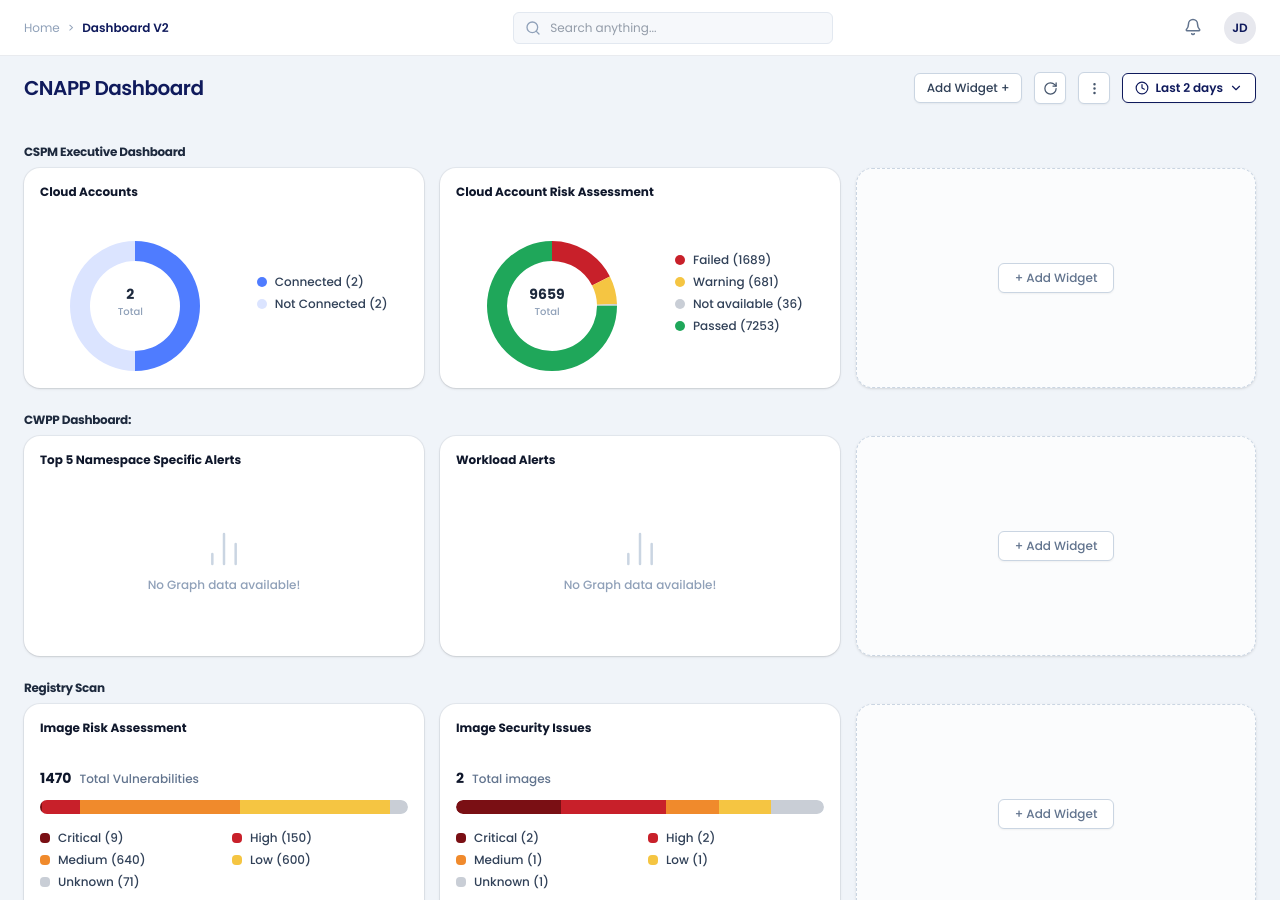
Test: Dashboard Search (Phase 8b) › clearing the query restores all sections, cards, and placeholders
In the search field named "Search dashboard widgets": (673, 28) [513, 12, 833, 44], type "Alerts"
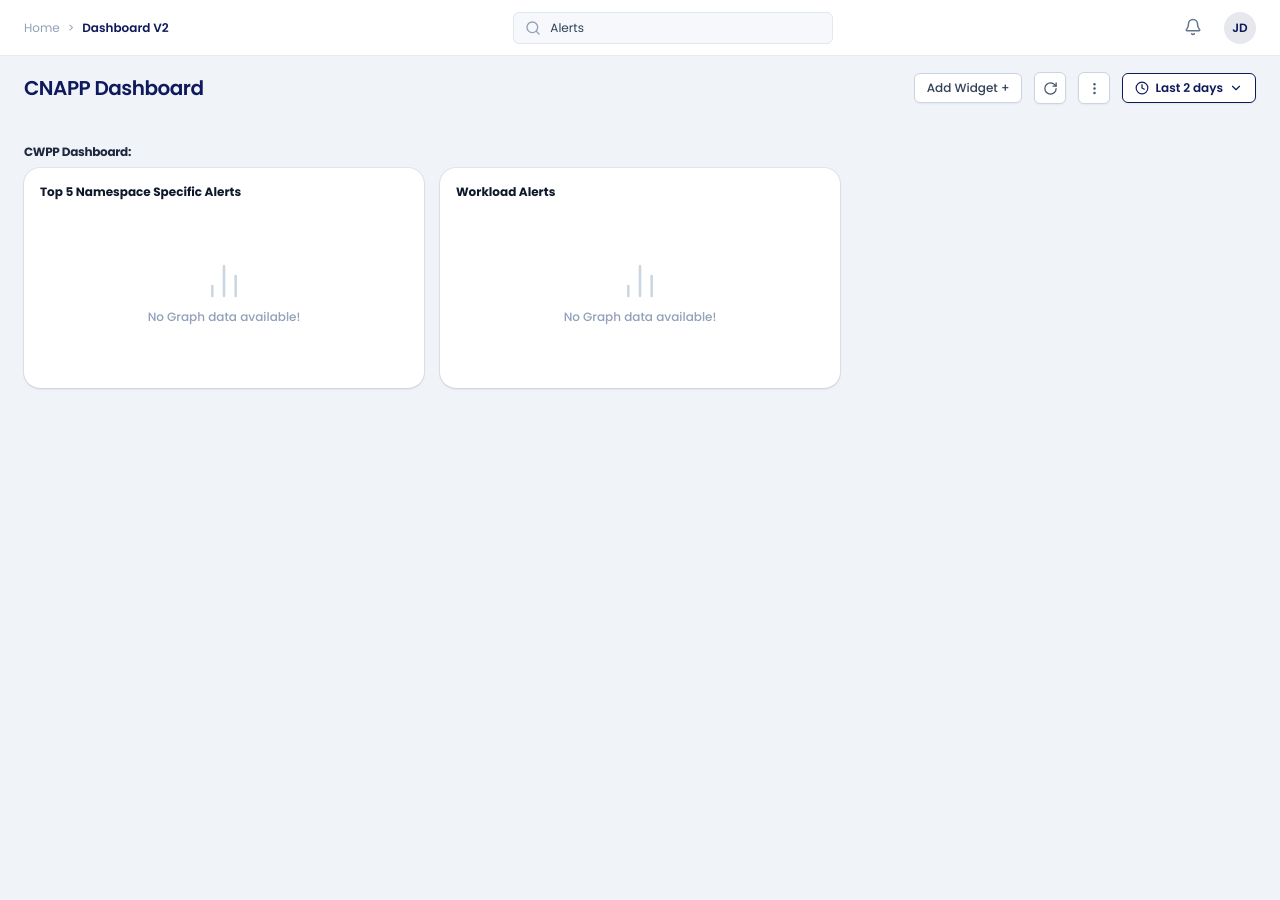
Check: the heading "CSPM Executive Dashboard" is gone
Clear the search field named "Search dashboard widgets": (673, 28) [513, 12, 833, 44]
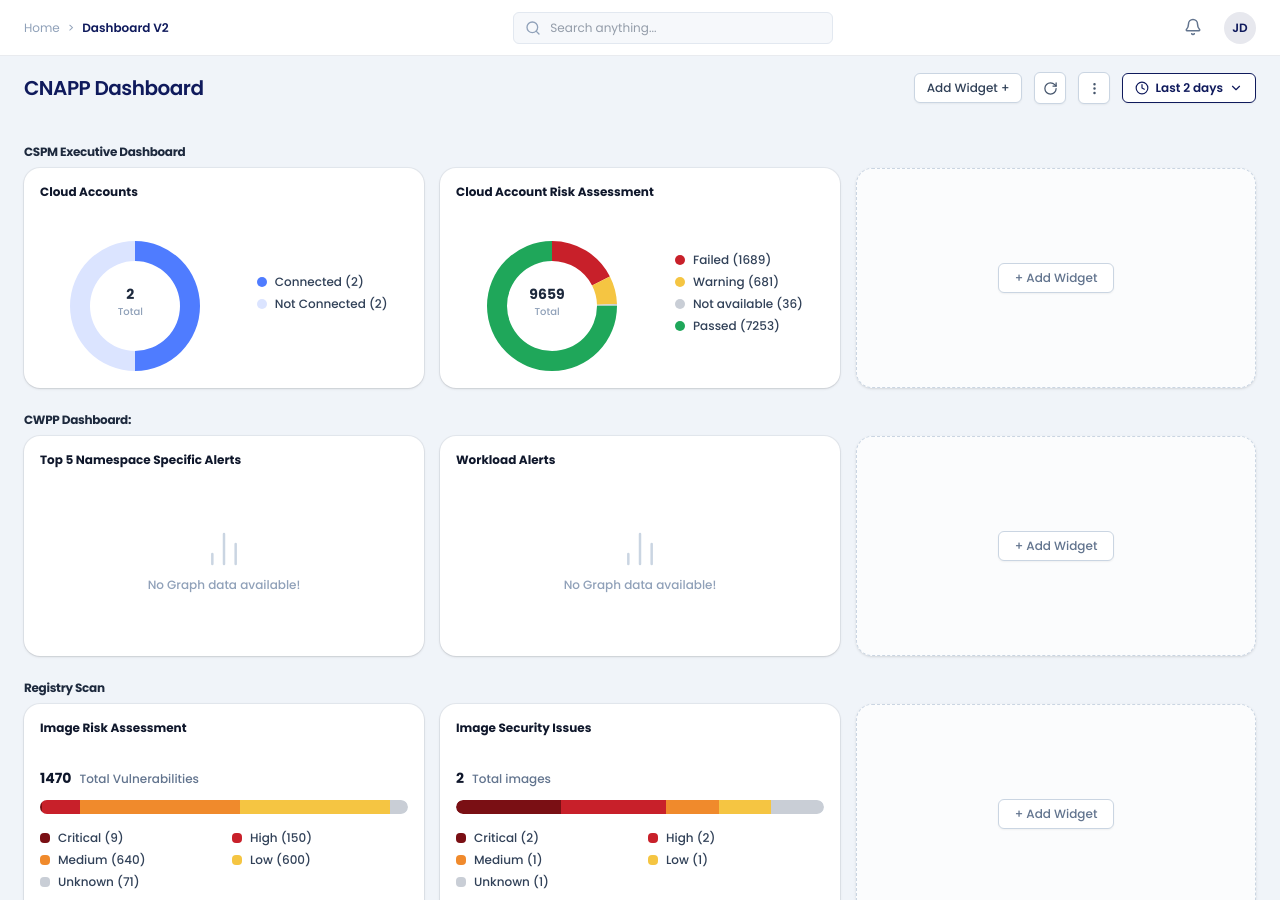
Check: the heading "CSPM Executive Dashboard" is shown, box [24, 143, 185, 160]
Check: the heading "Registry Scan" is shown, box [24, 679, 105, 696]
Check: the number of buttons "+ Add Widget" is 3, box [998, 263, 1114, 293]; [998, 531, 1114, 561]; [998, 799, 1114, 829]
